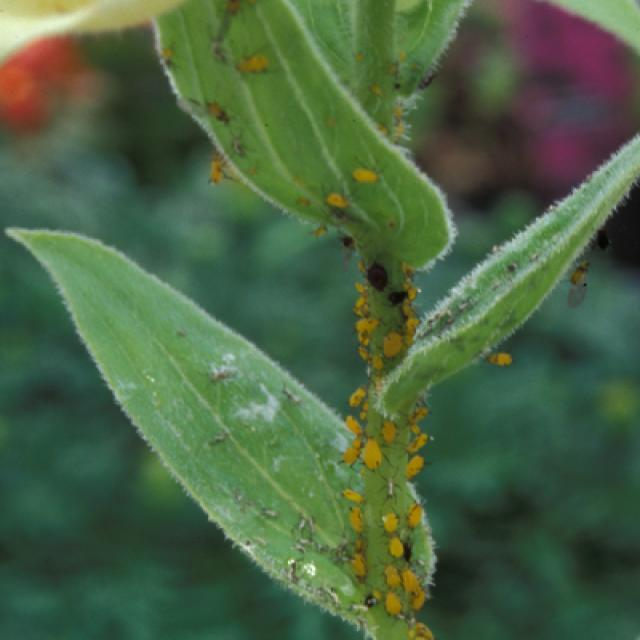Aphids: (349, 154, 394, 191), (376, 322, 406, 374), (358, 429, 383, 475), (405, 449, 433, 484)
